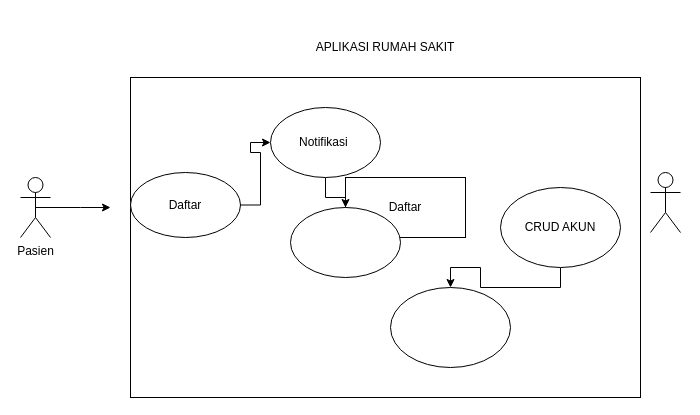
The diagram is 700 pixels wide and 415 high, and some of its shapes have lost their labels. The centre of each missing label's shape, as x and y in pixels:
Admin: point (665, 202)
Cetak Laporan: point (450, 327)
Informasi: point (345, 242)
